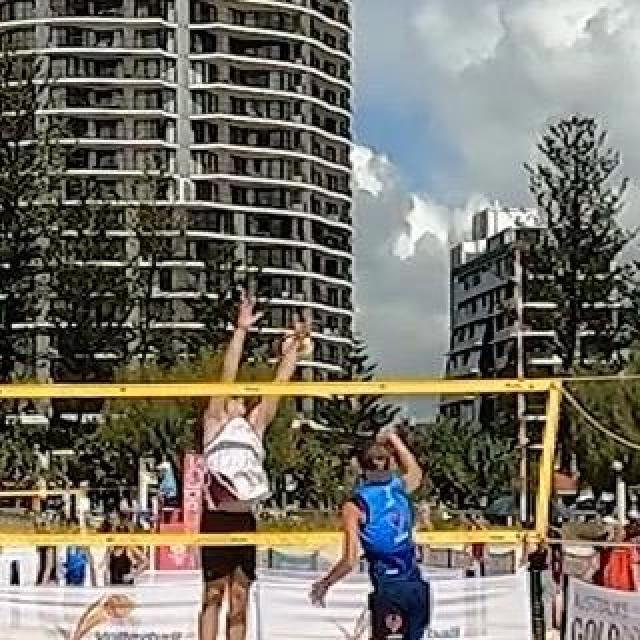volleyball: (278, 331, 312, 365)
